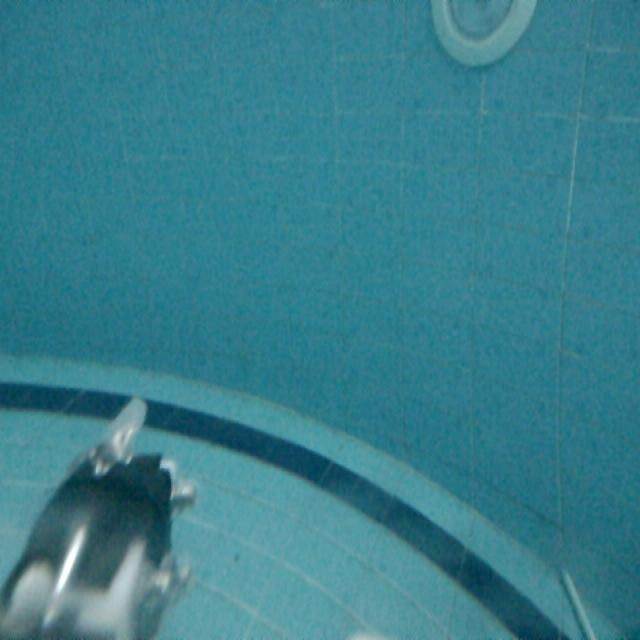Cube: (553, 561, 600, 640)
